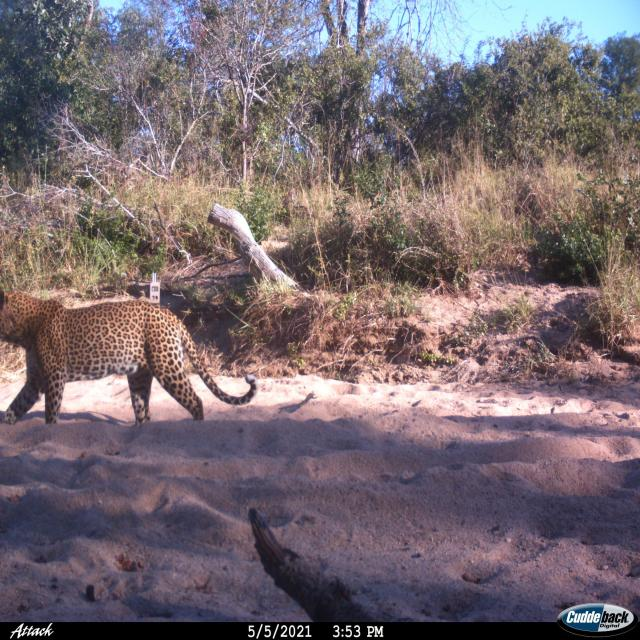Leopard: (1, 283, 247, 434)
